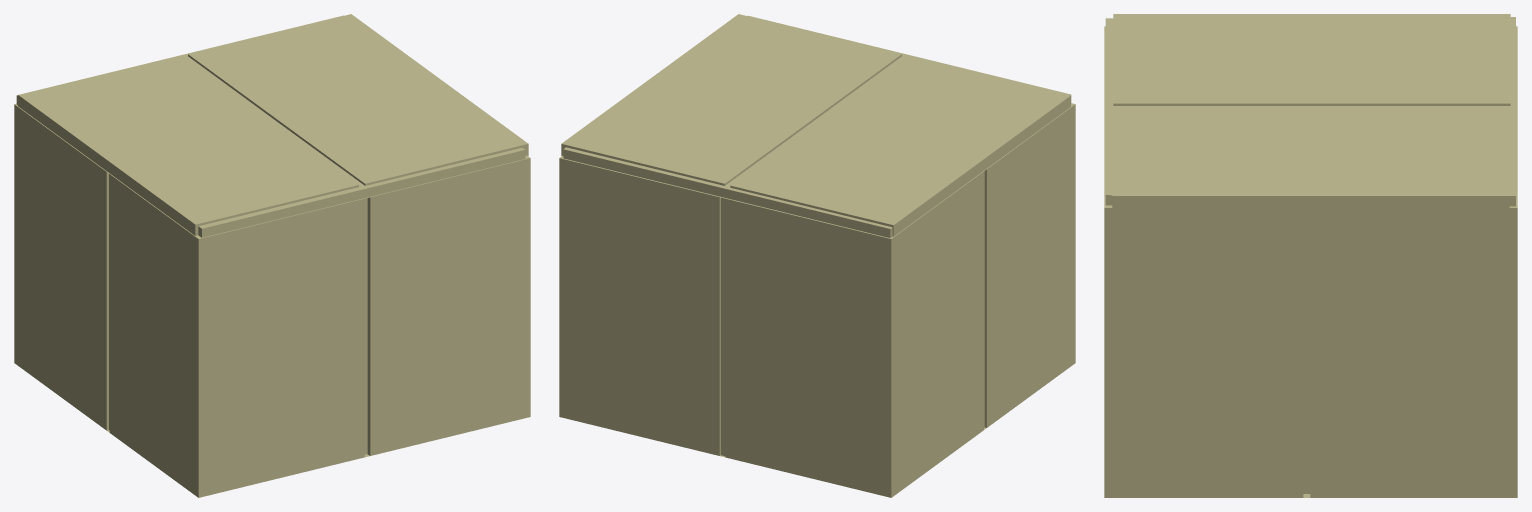
The picture shows the model from 3 angles, left to right: view 1: azimuth 30°, elevation 25°; view 2: azimuth 150°, elevation 25°; view 3: azimuth 270°, elevation 25°; orthographic projection. The views are drawn at different scales.
Parts seen in each view (by area): view 1: BoxBase, Cube.003, Cube.004, InnerFlap2, InnerFlap1; view 2: BoxBase, Cube.003, Cube.004, InnerFlap1, InnerFlap2; view 3: BoxBase, Cube.004, Cube.003, InnerFlap2, InnerFlap1.
Part boxes in pixels (bbox=[...]): BoxBase: bbox=[14, 103, 530, 497]; Cube.003: bbox=[18, 55, 358, 235]; Cube.004: bbox=[188, 14, 528, 185]; InnerFlap2: bbox=[198, 121, 525, 237]; InnerFlap1: bbox=[16, 15, 343, 121]; BoxBase: bbox=[559, 103, 1075, 497]; Cube.003: bbox=[730, 56, 1070, 236]; Cube.004: bbox=[561, 14, 901, 185]; InnerFlap1: bbox=[563, 121, 892, 237]; InnerFlap2: bbox=[747, 15, 1071, 121]; BoxBase: bbox=[1104, 26, 1517, 497]; Cube.004: bbox=[1112, 106, 1509, 209]; Cube.003: bbox=[1113, 14, 1510, 105]; InnerFlap2: bbox=[1105, 18, 1310, 205]; InnerFlap1: bbox=[1310, 17, 1515, 206].
Size of the model in its own units: 209 by 162 by 200.
